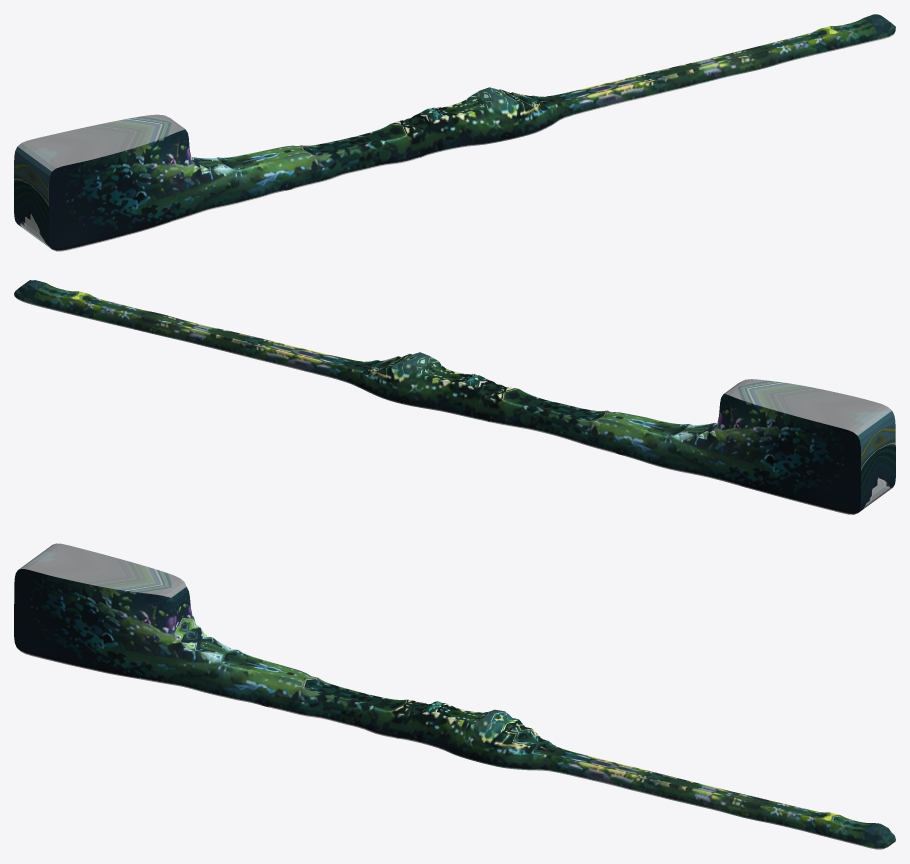
Rendered from ground_left.glb.
The picture shows the model from 3 angles, top to bottom: view 1: azimuth 30°, elevation 25°; view 2: azimuth 150°, elevation 25°; view 3: azimuth 330°, elevation 25°; orthographic projection.
Parts seen in each view (by area): view 1: geometry_0; view 2: geometry_0; view 3: geometry_0.
Boxes of the visible parts, box(x1,y1,x2,y2) form: geometry_0: box(14, 14, 895, 251); geometry_0: box(14, 280, 895, 514); geometry_0: box(14, 543, 895, 849).
Bounding box in the file's own units: 41.23 × 3.89 × 2.98.
1 material, 1 textured.
